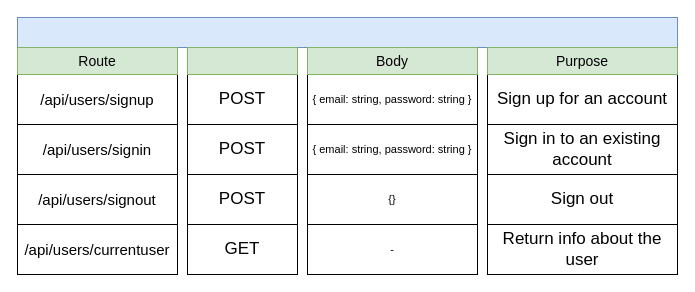
Image size: 695x292. Some labels were removed from this diagram. The centre of each missing label's shape, as x and y in pixels:
auth: pixel 347 32
Method: pixel 242 60
